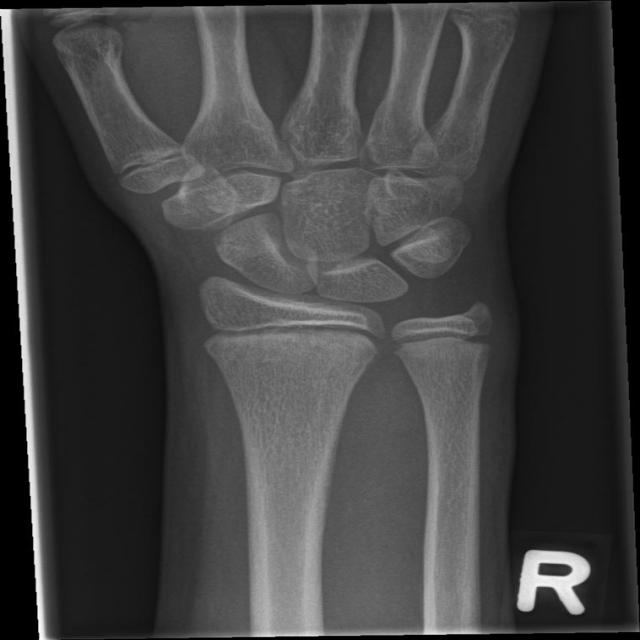fracture: (187, 304, 391, 365), (371, 315, 507, 363)
